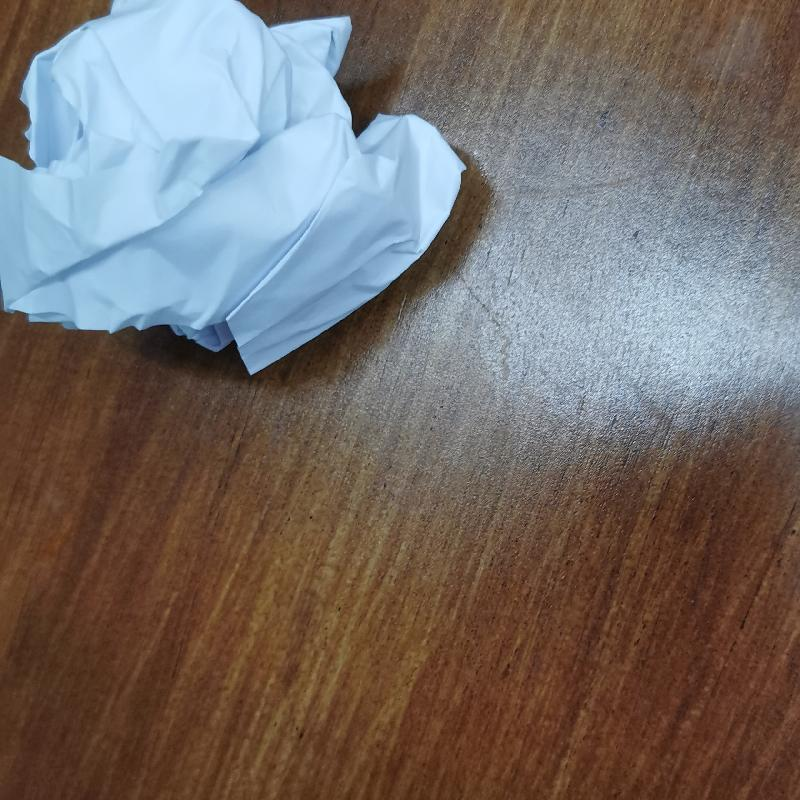spitball: (1, 1, 472, 382)
